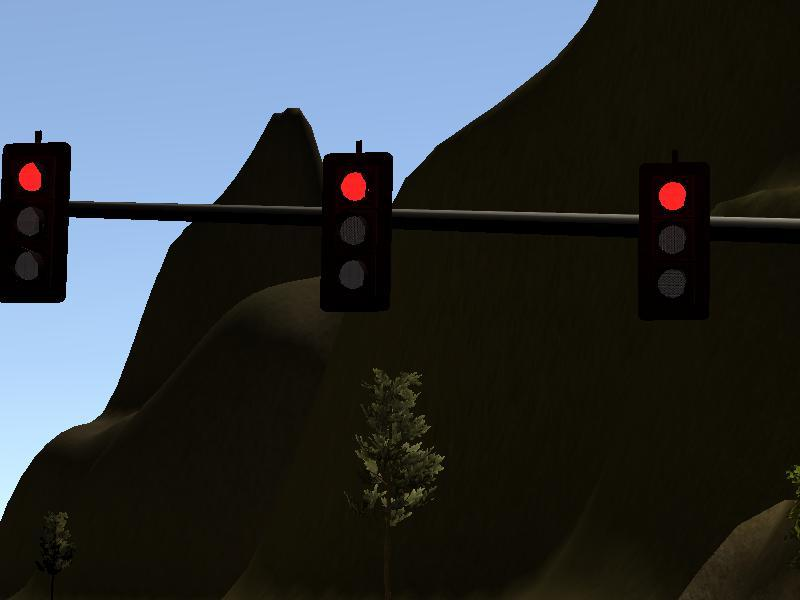Red: (2, 145, 68, 302), (327, 156, 387, 309), (646, 167, 707, 306)
